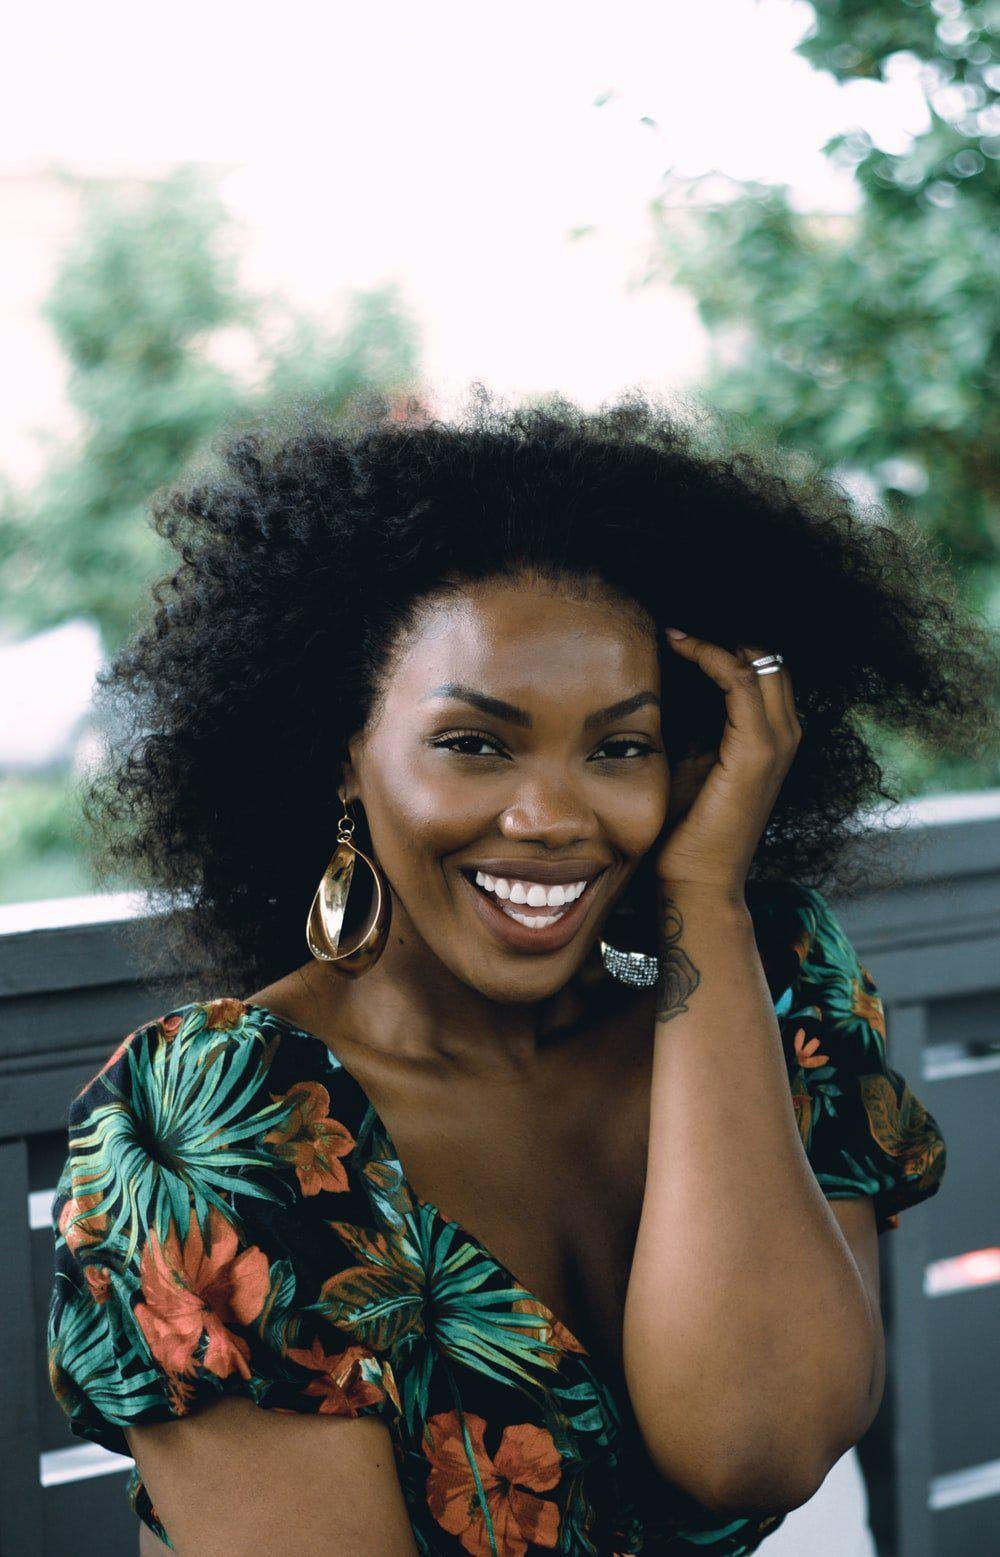Sober: (405, 643, 659, 983)
